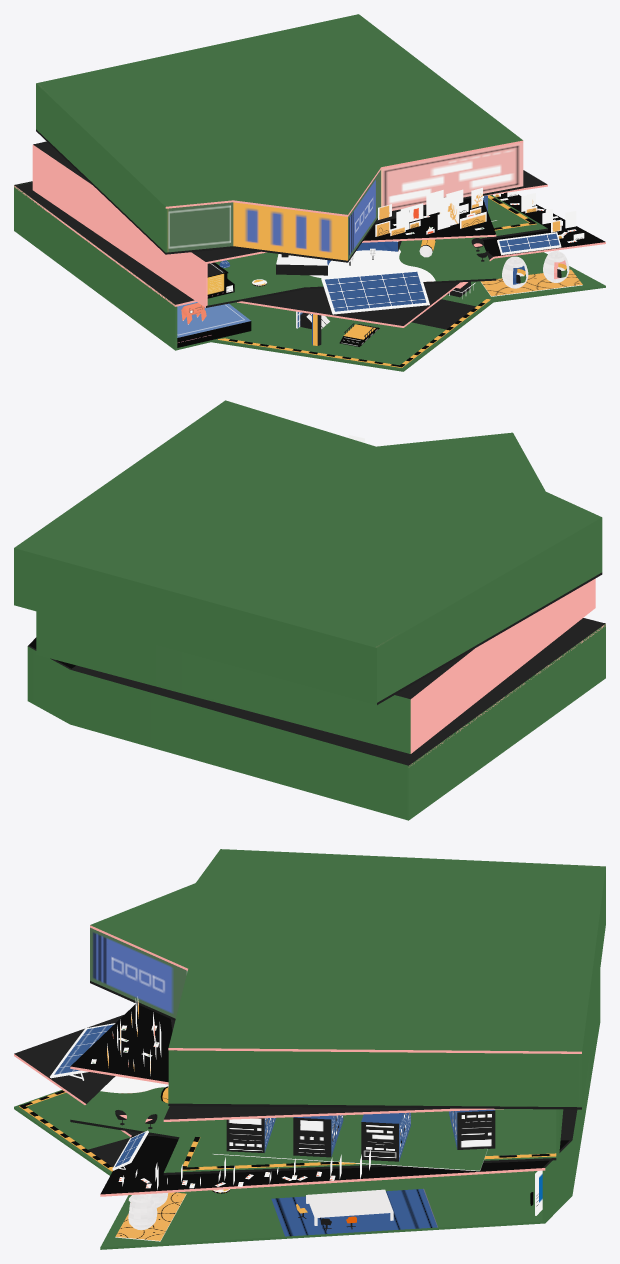
The model's file is 中关村带贴图.fbx.
The picture shows the model from 3 angles, top to bottom: view 1: azimuth 30°, elevation 25°; view 2: azimuth 150°, elevation 25°; view 3: azimuth 270°, elevation 25°; orthographic projection. The views are drawn at different scales.
Visible parts, largest first — view 1: 挤压_2_2, 平面_3, 平面_1, 太阳能_大, 平面_3_2, CC, 挤压, 平面_2_2, 挤压_2, 立方体_4_2, 平面_2, 太阳能_小 (+5 smaller); view 2: 挤压_2_2; view 3: 挤压_2_2, 平面_4, 立方体_4_3, 平面_2_2, 平面, 立方体_2_8, 立方体_2_3, 立方体_1_7, jixiang, 立方体_7_2, 立方体_4_2, 太阳能_大 (+5 smaller).
Boxes of the visible parts, x1,y1,x2,y2 form: 挤压_2_2: (14,14,605,371); 平面_3: (381,142,523,210); 平面_1: (233,202,347,260); 太阳能_大: (321,270,429,314); 平面_3_2: (167,202,233,252); CC: (177,302,251,347); 挤压: (310,249,435,281); 平面_2_2: (348,169,381,260); 挤压_2: (276,241,401,275); 立方体_4_2: (480,269,582,296); 平面_2: (411,299,475,329); 太阳能_小: (497,232,561,255); 挤压_2_2: (14,400,605,820); 挤压_2_2: (14,849,605,1249); 平面_4: (168,1050,579,1106); 立方体_4_3: (212,1117,487,1171); 平面_2_2: (90,927,187,1018); 平面: (271,1188,437,1236); 立方体_2_8: (361,1112,410,1161); 立方体_2_3: (306,1189,393,1225); 立方体_1_7: (293,1115,343,1157); jixiang: (449,1109,495,1149); 立方体_7_2: (226,1118,275,1152); 立方体_4_2: (115,1192,186,1241); 太阳能_大: (50,1023,115,1080).
Bounding box in the file's own units: 3121 × 1068 × 3379.
